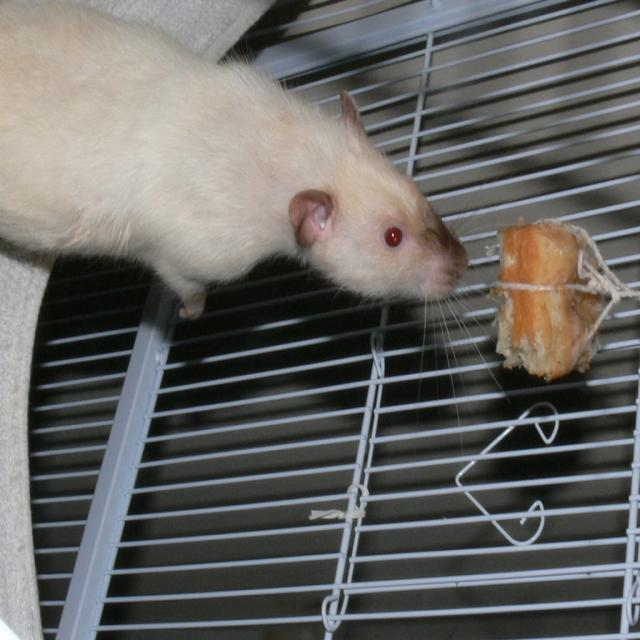rat: (0, 0, 472, 325)
